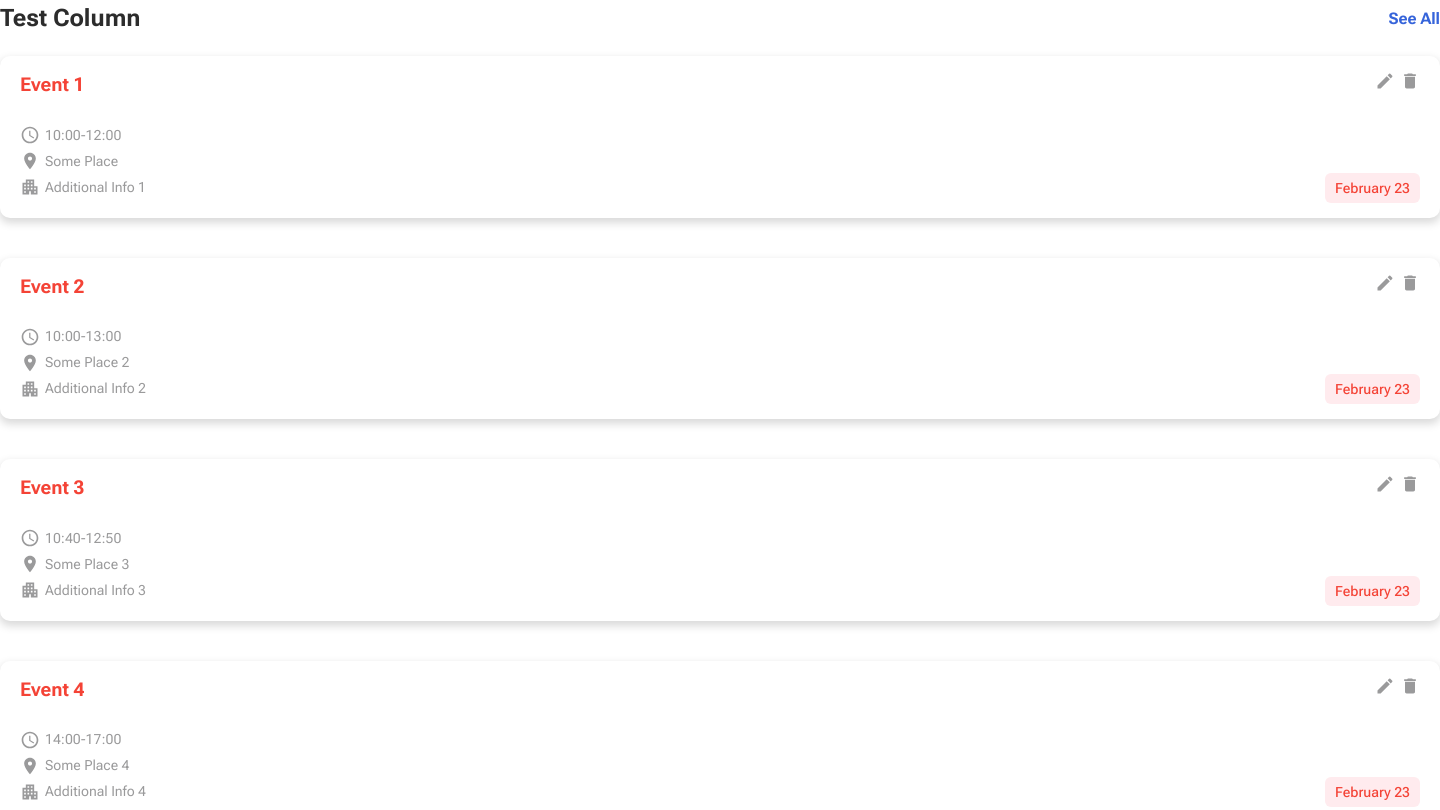
Test: EventListColumn › shows edit event modal when edit button is clicked
Click the button with test id "edit-button-1" at (1385, 81), box [1375,71,1395,91]
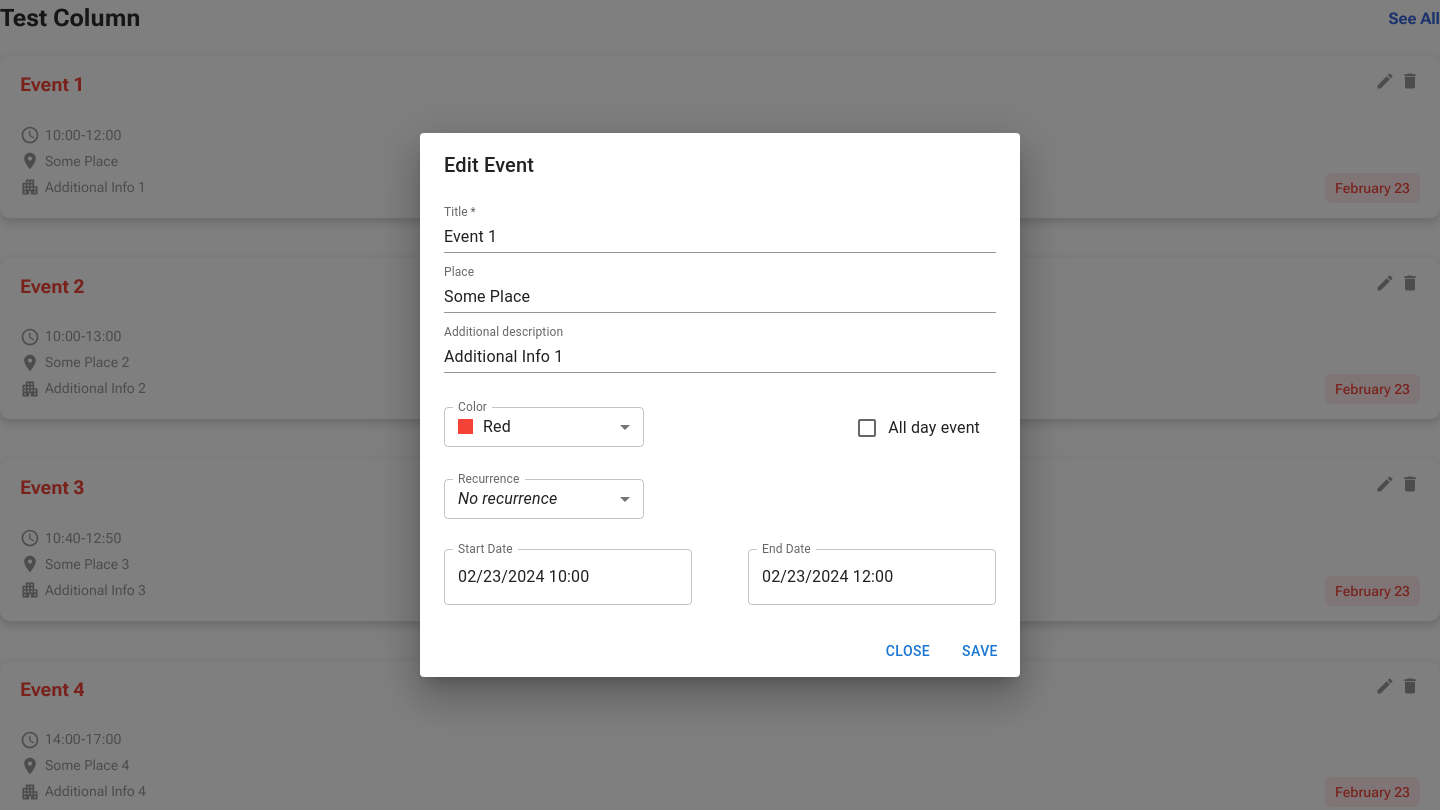
Expected: the text "Additional description" is shown, [444,323,563,341]
